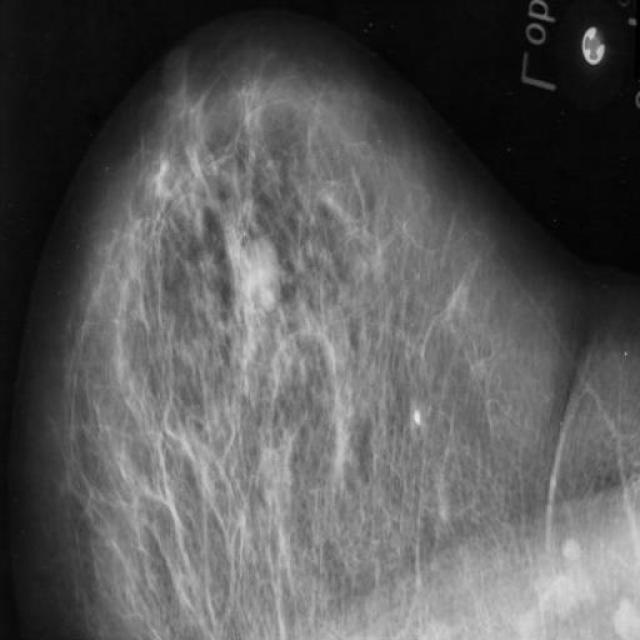cancer: (229, 322, 291, 408)
